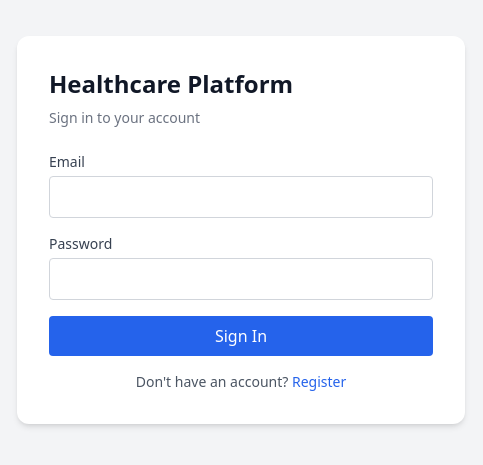
LoginPage › shows validation error for invalid email
Type "not-an-email" into the field labelled "Email" at (241, 197), box [49, 176, 433, 218]
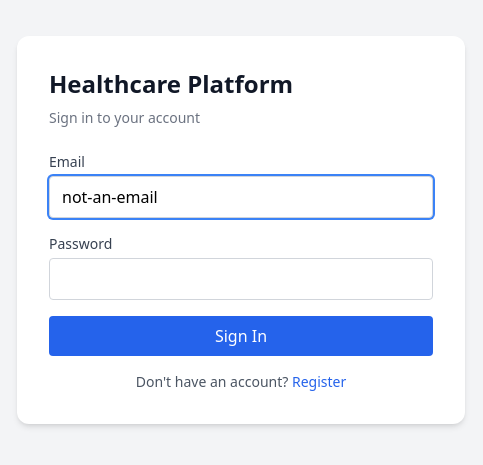
Click the button "Sign In" at (241, 336), box [49, 316, 433, 356]
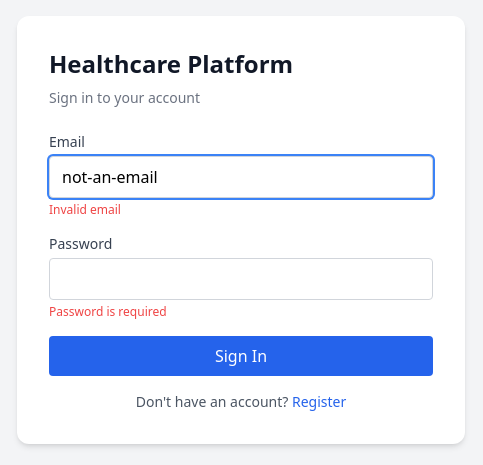
Now the text "Invalid email" is shown, box [49, 201, 121, 218]
